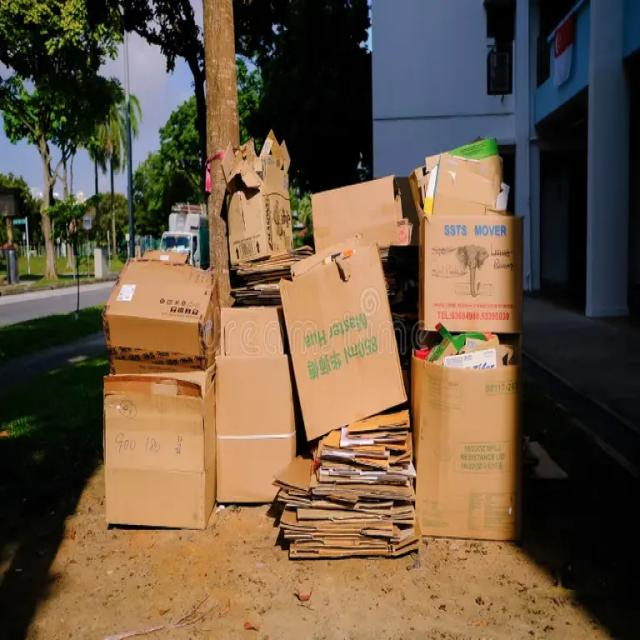bulk_waste: (280, 260, 405, 425), (418, 354, 510, 567), (416, 173, 520, 355), (105, 369, 208, 536), (220, 304, 294, 516), (284, 429, 416, 545), (108, 258, 220, 368), (220, 152, 308, 266), (307, 182, 413, 249)
